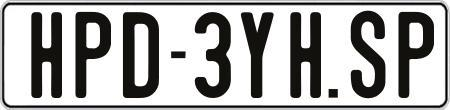3: (194, 12, 232, 103)
D: (122, 12, 161, 101)
H: (30, 10, 67, 97), (289, 12, 324, 103)
P: (75, 10, 114, 101), (396, 12, 431, 102)
S: (348, 8, 386, 101)
Y: (239, 10, 278, 101)
